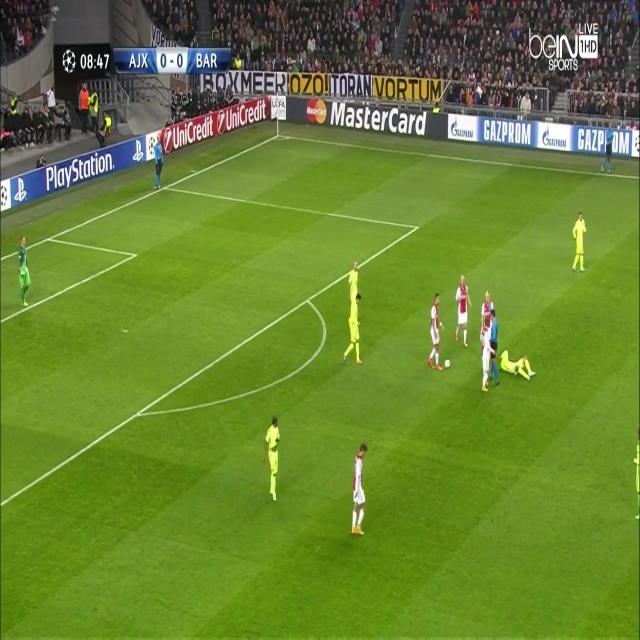Ball: (442, 356, 452, 372)
Goalkeeper: (16, 233, 33, 314)
Player: (348, 440, 371, 539), (340, 291, 363, 368), (264, 413, 283, 503), (425, 292, 445, 372), (454, 272, 474, 352), (498, 347, 538, 384), (570, 208, 588, 276), (481, 316, 494, 398), (631, 425, 640, 521), (346, 257, 361, 310), (478, 290, 496, 330)
Referee: (489, 308, 503, 389), (152, 132, 166, 192), (600, 121, 614, 178)
